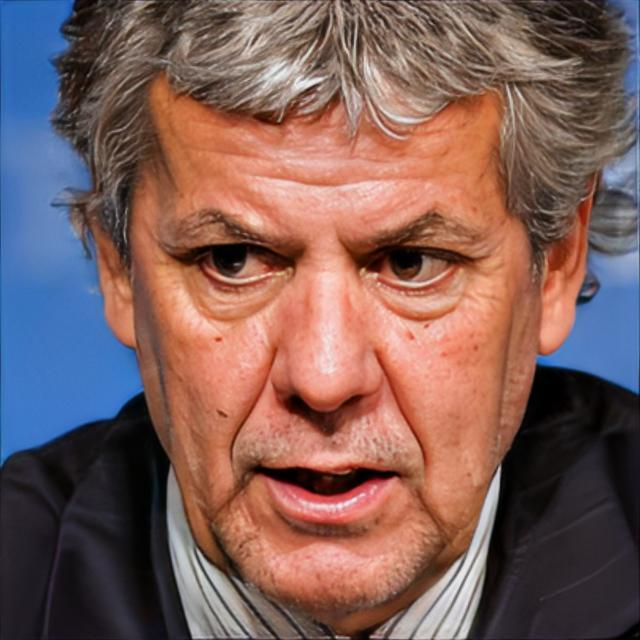anger: (132, 62, 531, 614)
